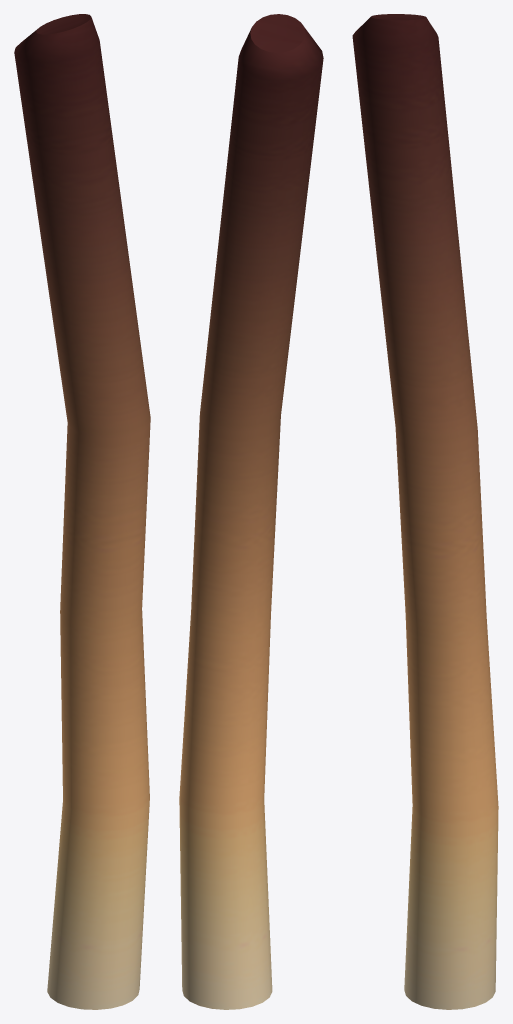
The model's file is WoodPostB.fbx.
The picture shows the model from 3 angles, left to right: view 1: azimuth 30°, elevation 25°; view 2: azimuth 150°, elevation 25°; view 3: azimuth 330°, elevation 25°; orthographic projection. The views are drawn at different scales.
Visible parts, largest first — view 1: pCylinder16; view 2: pCylinder16; view 3: pCylinder16.
Part boxes in pixels (x1,y1,x2,y2): pCylinder16: (14,14,150,1009); pCylinder16: (179,14,323,1009); pCylinder16: (352,14,498,1009).
Size of the model in its own units: 52.46 by 384 by 40.78.
Materials: 1 (1 with a texture image).
